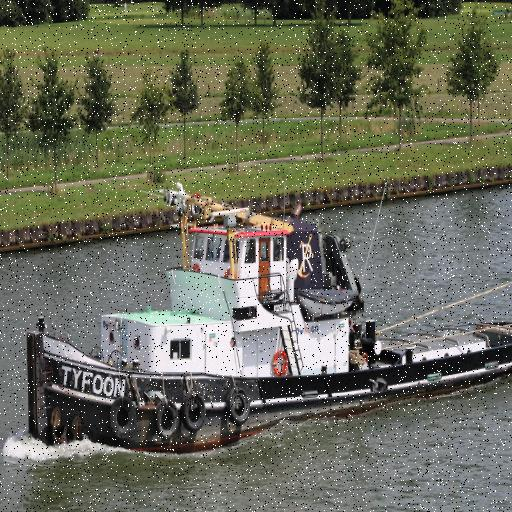tugboat: (24, 175, 512, 470)
